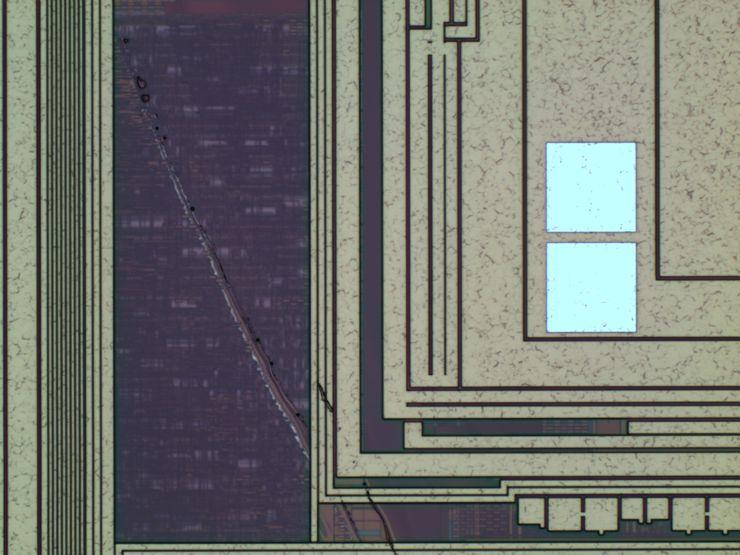SCRATCH: (87, 1, 411, 555)
